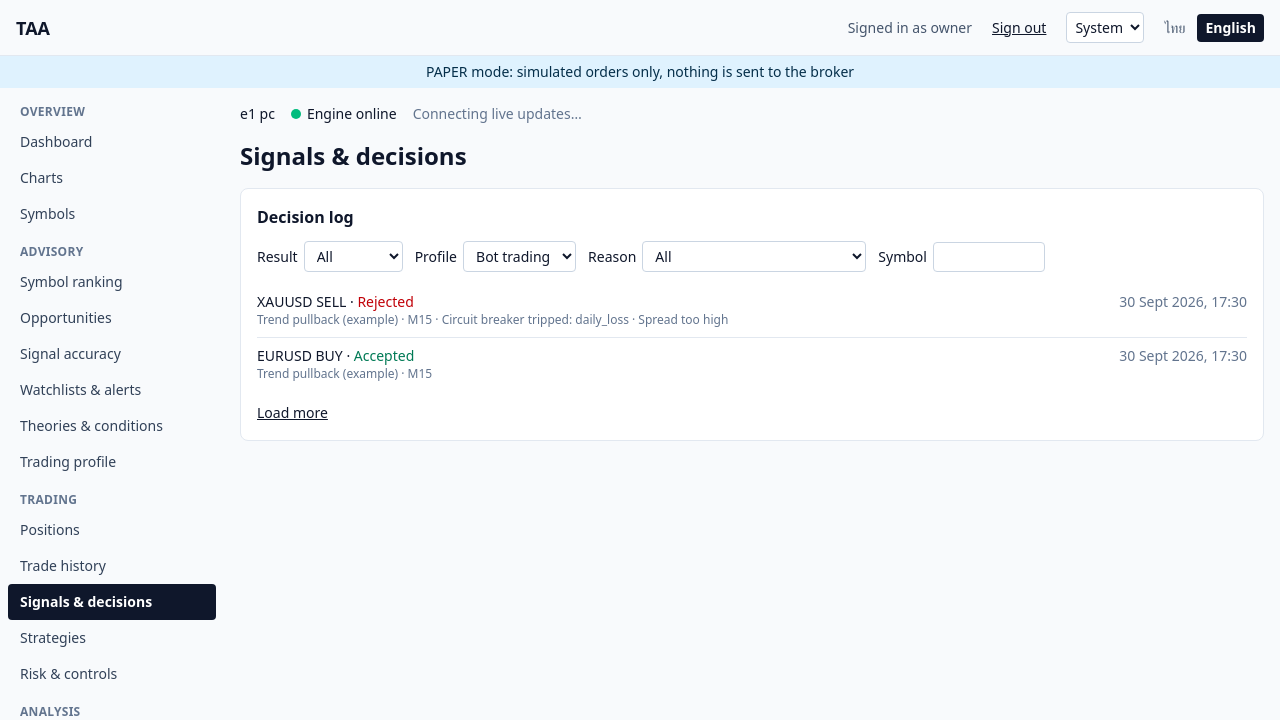
signals & decisions page › filters by result, profile, reason and symbol through the URL
The width and height of the screenshot is (1280, 720).
expect the button "XAUUSD SELL · Rejected" is shown: met, box 257,292 -> 1247,328
Select "Rejected" in the dropdown labelled "Result": (353, 256) 304,241 -> 403,272
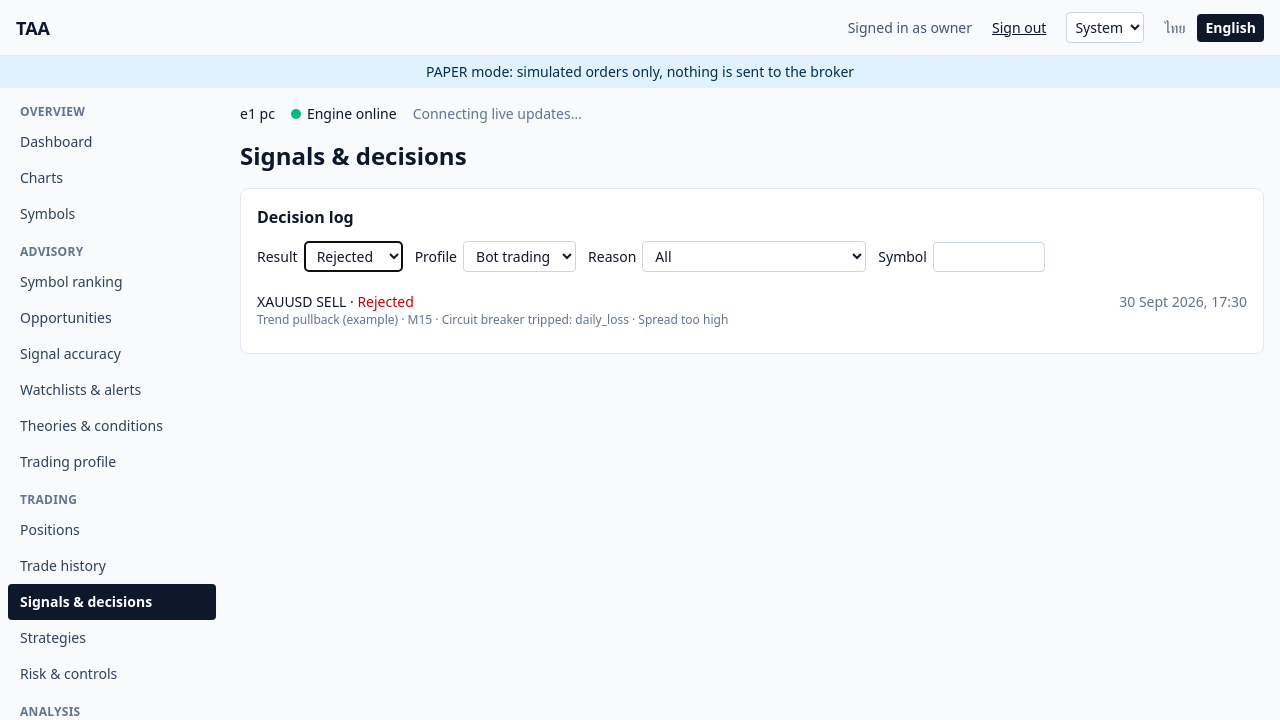
Select "Spread too high" in the dropdown labelled "Reason": (754, 256) 642,241 -> 866,272
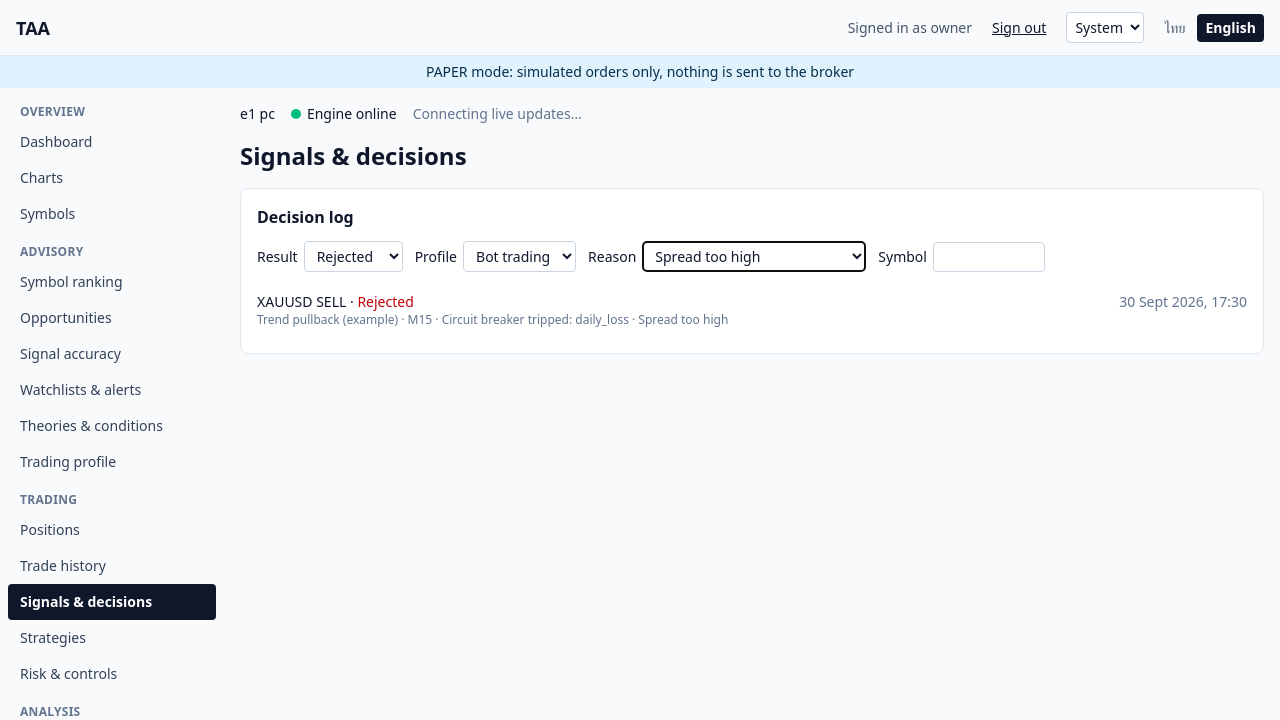
Select "All" in the dropdown labelled "Profile": (520, 256) 463,241 -> 576,272
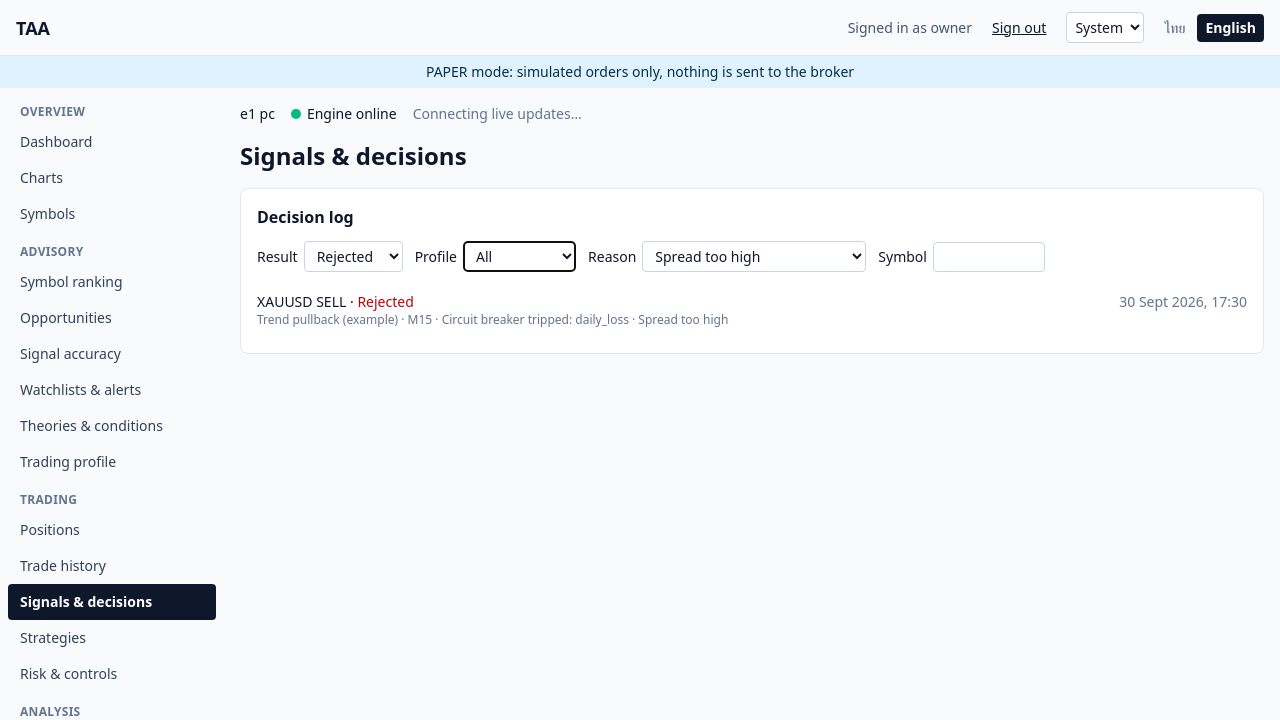
In the search field labelled "Symbol": (989, 256) 933,242 -> 1045,272, type "xauusd"
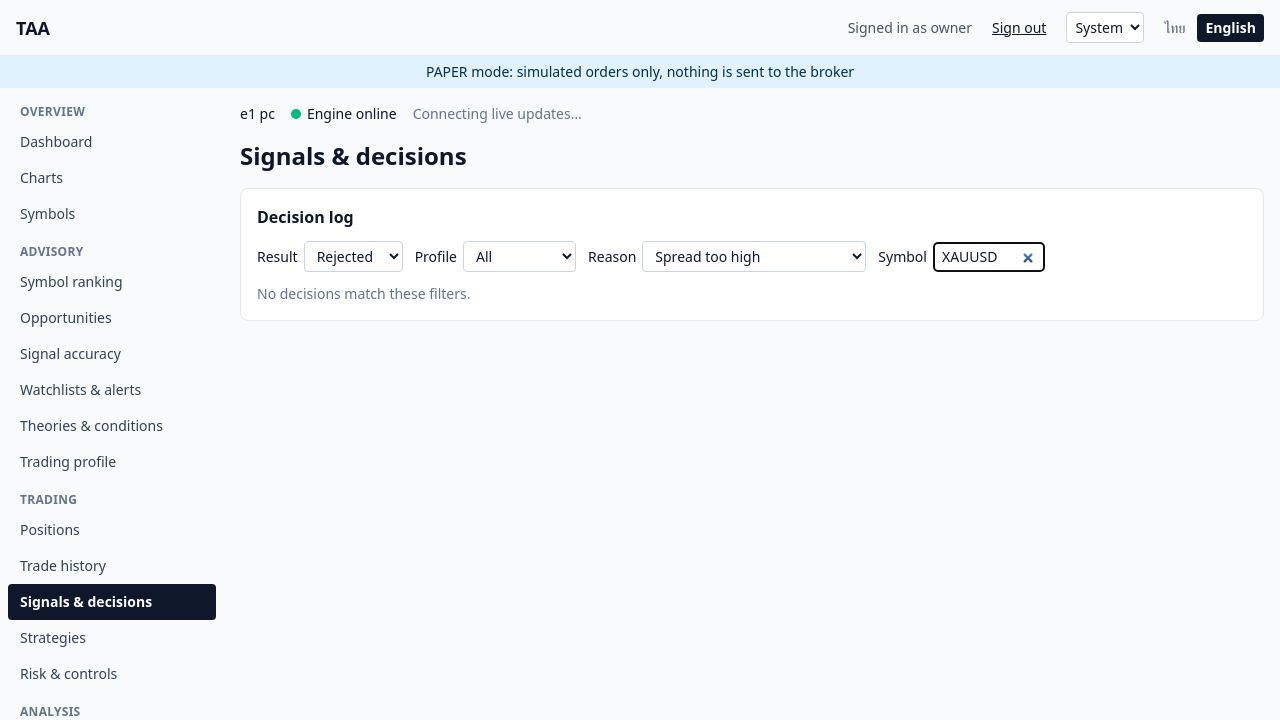
expect the text "No decisions match these filters." is shown: met, box 257,284 -> 470,303
